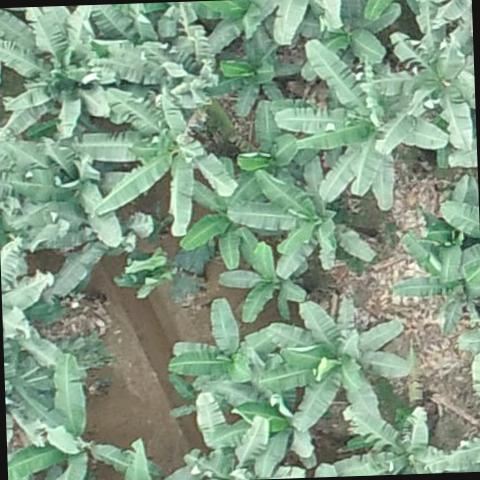Banana-plant: (278, 37, 438, 206), (79, 92, 236, 240), (3, 352, 147, 480), (278, 301, 411, 430), (236, 160, 362, 280), (0, 4, 109, 134), (169, 306, 299, 411), (8, 139, 118, 255), (90, 9, 220, 103), (395, 10, 477, 157), (184, 154, 278, 264), (396, 213, 480, 334), (172, 395, 283, 480), (328, 408, 456, 477), (213, 25, 300, 111), (219, 253, 303, 322), (303, 0, 398, 55)
